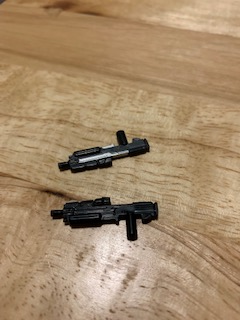rifle: (51, 196, 159, 246), (53, 128, 154, 176)
